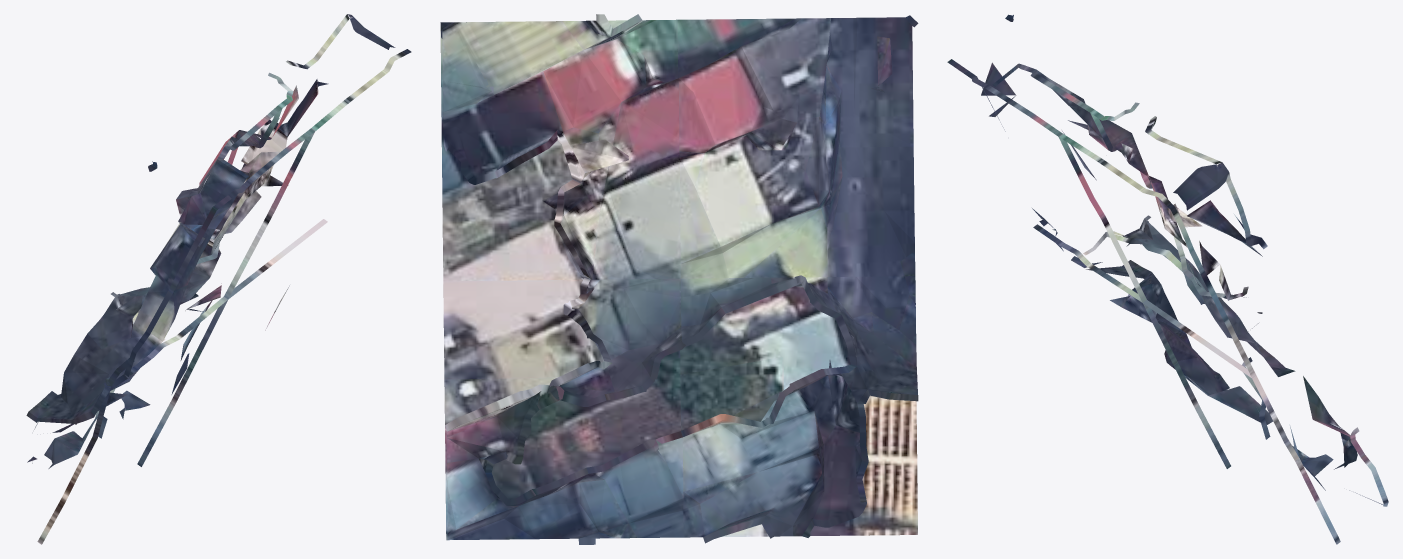
The picture shows the model from 3 angles, left to right: view 1: azimuth 30°, elevation 25°; view 2: azimuth 150°, elevation 25°; view 3: azimuth 270°, elevation 25°; orthographic projection. The views are drawn at different scales.
Size of the model in its own units: 38.73 by 37.51 by 36.5.
2 materials, 2 textured.
